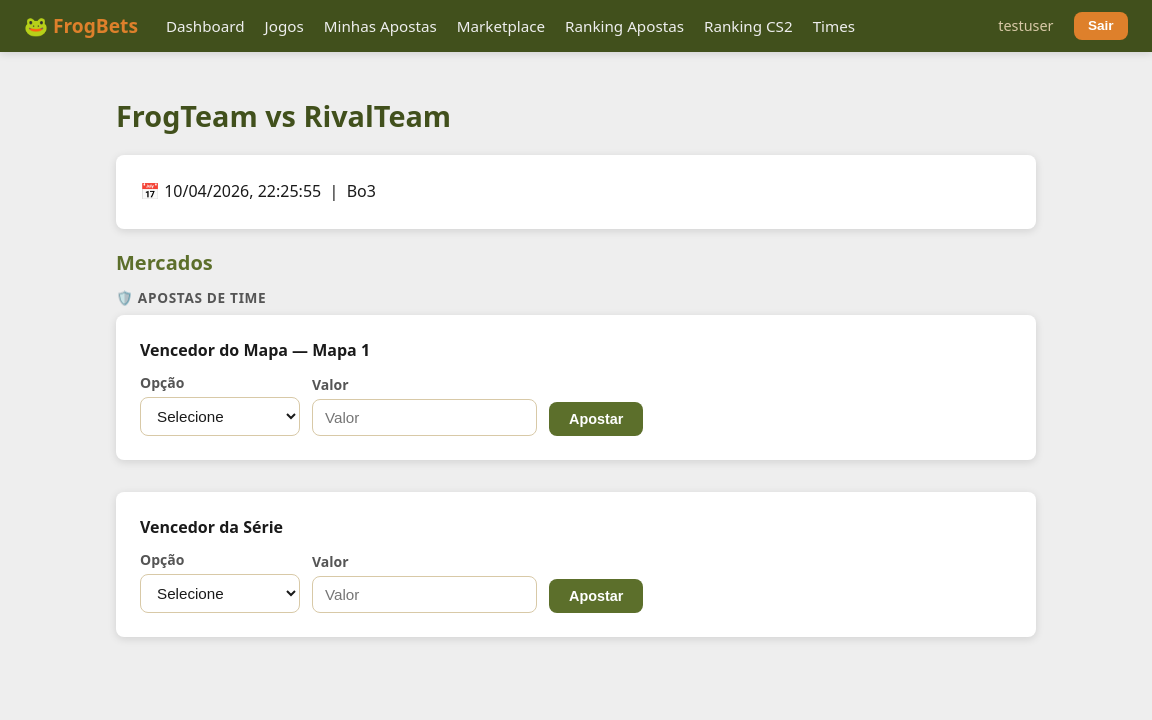
Detalhe do Jogo › cria aposta com sucesso
The width and height of the screenshot is (1152, 720).
Step 1. Select "FrogTeam" in the dropdown labelled "Opção" below "Vencedor do Mapa — Mapa 1" → (220, 417), box [140,397,300,436]
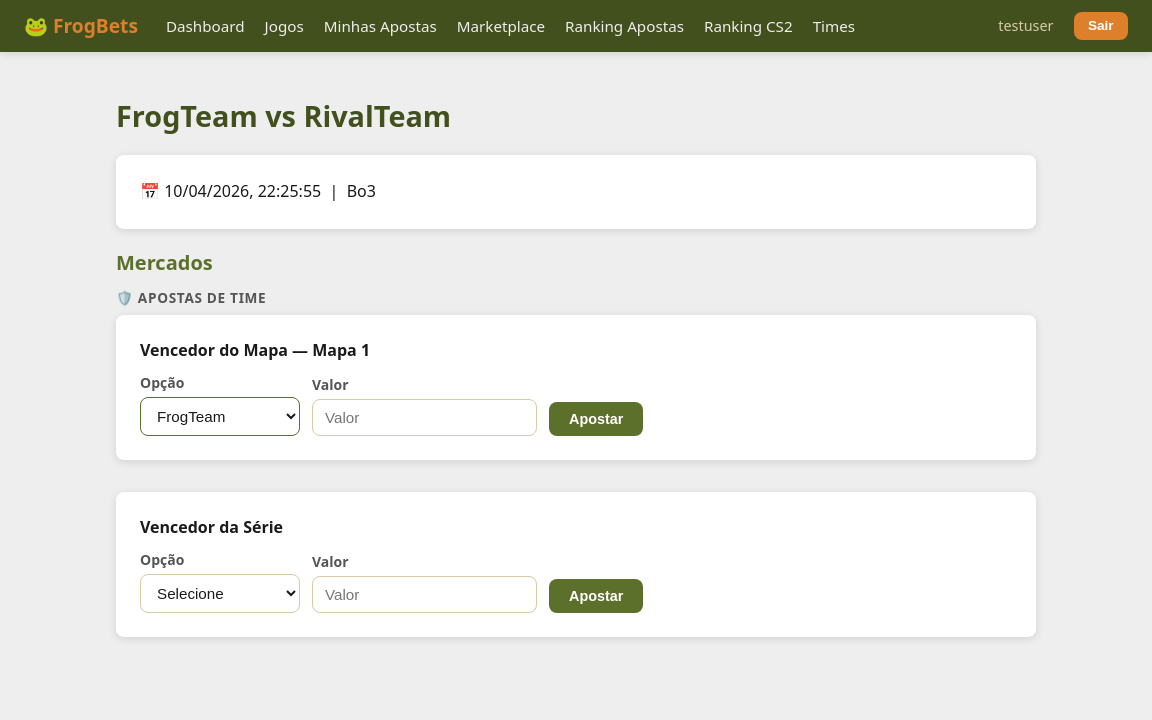
Step 2. Type "100" into the number field with placeholder "Valor" below "Vencedor do Mapa — Mapa 1" → (425, 418), box [312,399,537,436]
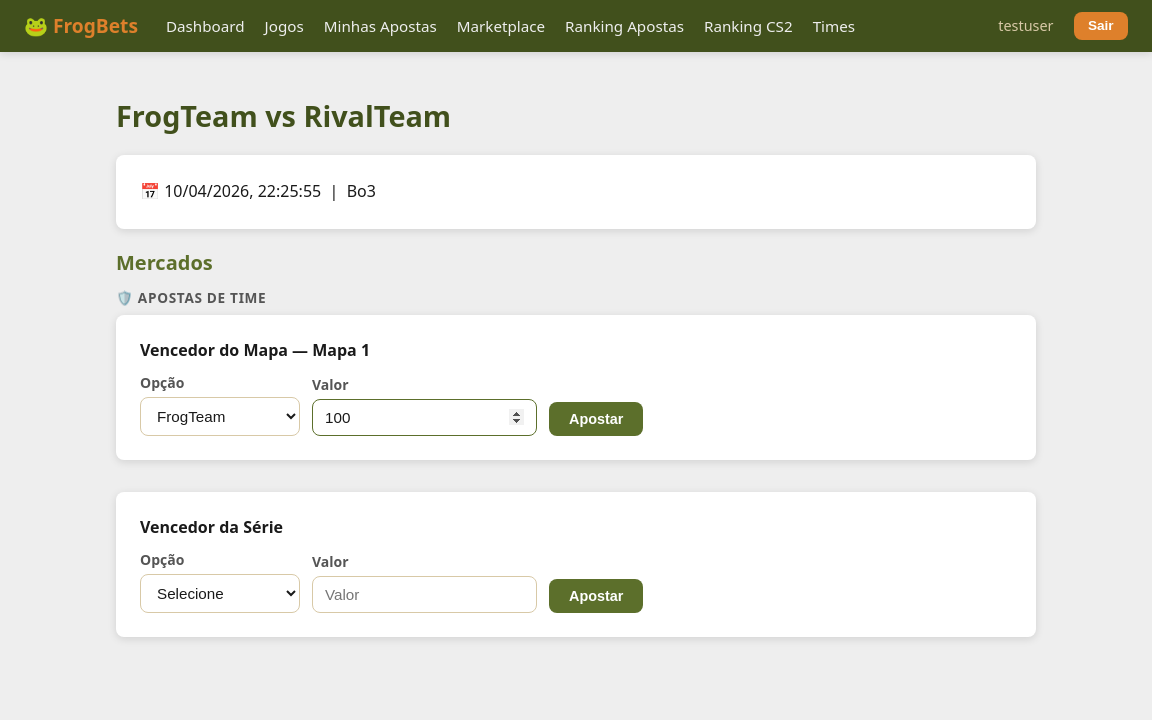
Step 3. Click the button "Apostar" below "Vencedor do Mapa — Mapa 1" → (596, 419), box [549,402,643,436]
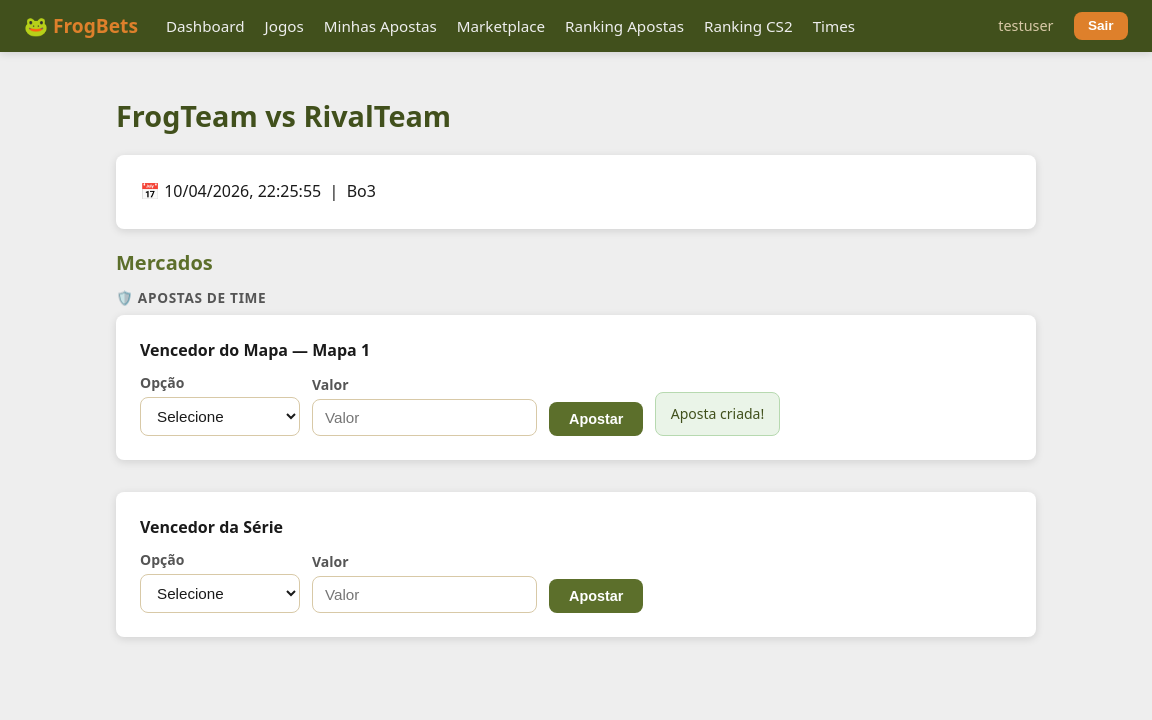
Expected: the message "Aposta criada!" is shown, [655,392,780,436]
